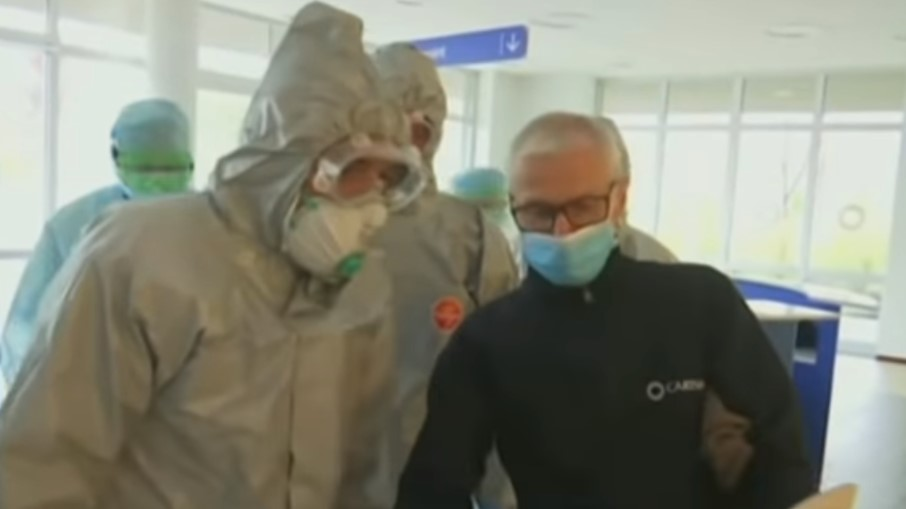face_with_mask: (212, 5, 429, 285), (503, 123, 628, 283)
